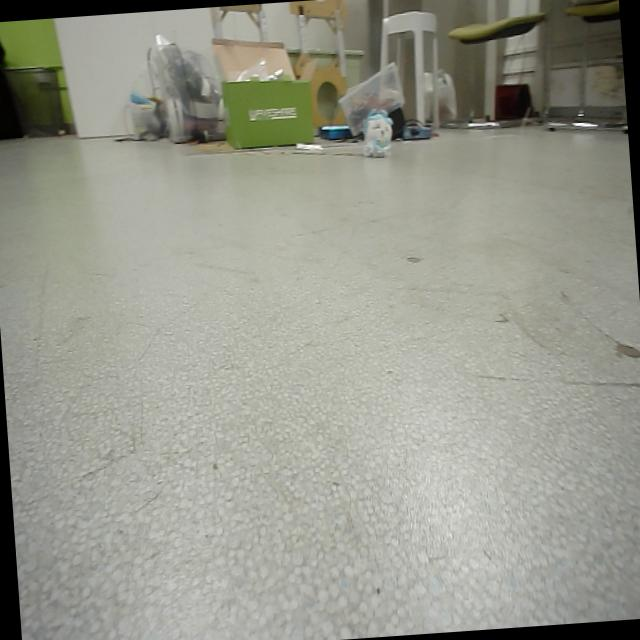xiaoba: (358, 101, 397, 160)
